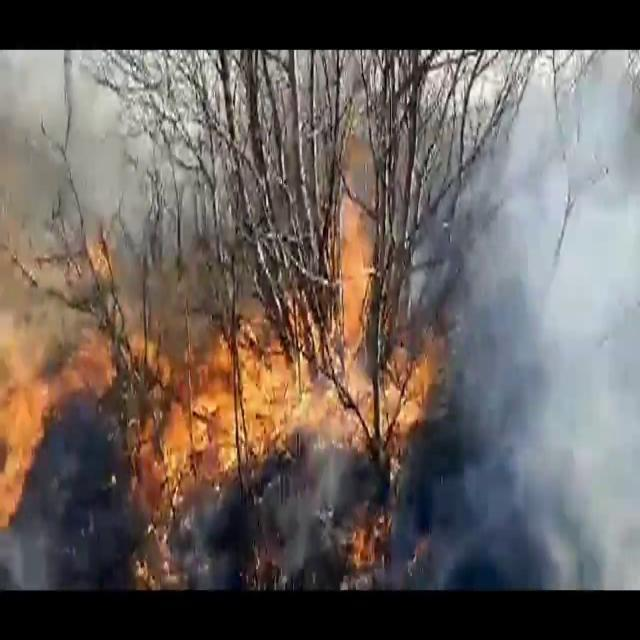Fire: (0, 168, 444, 544)
Smoke: (399, 54, 640, 589), (0, 50, 218, 328)
